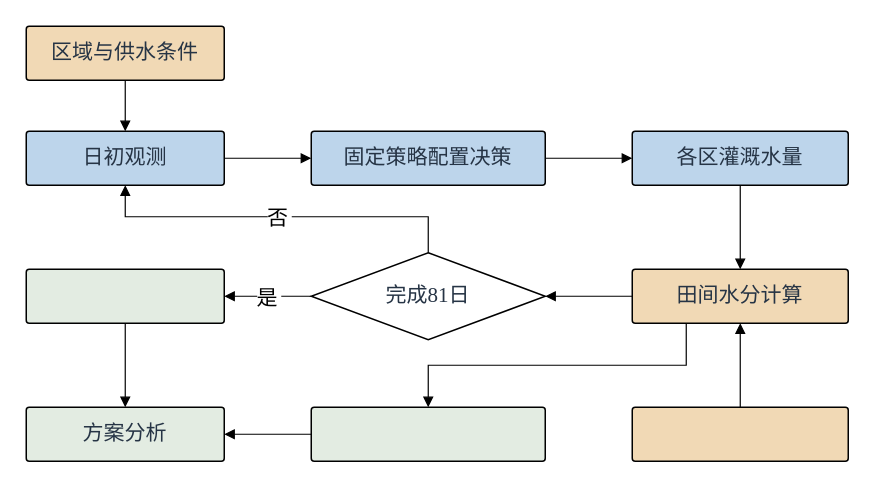
The diagram is 875 pixels wide and 488 high, and some of its shapes have lost their labels. The shapes that lost their labels are listed below. From the top down, each one's centre as x and y in pixels, then its label:
At pixel 124 295: "终点评价".
At pixel 427 433: "过程记录".
At pixel 739 433: "当日天气".
